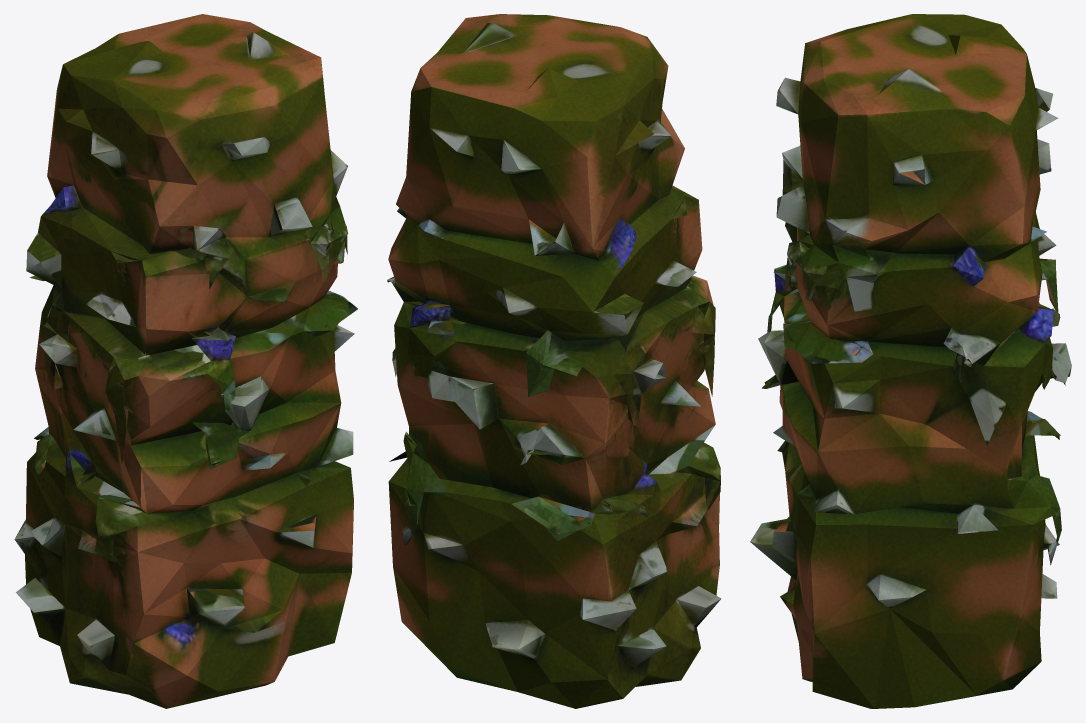
Rendered from jungle_wall.glb.
3 views of the same model, side by side, from view 1: azimuth 30°, elevation 25°; view 2: azimuth 150°, elevation 25°; view 3: azimuth 270°, elevation 25° (orthographic). The views are drawn at different scales.
Parts seen in each view (by area): view 1: tmpb17i07nd.ply; view 2: tmpb17i07nd.ply; view 3: tmpb17i07nd.ply.
Boxes of the visible parts, x1,y1,x2,y2 form: tmpb17i07nd.ply: [14, 14, 357, 708]; tmpb17i07nd.ply: [387, 14, 721, 708]; tmpb17i07nd.ply: [750, 14, 1071, 708].
Size of the model in its own units: 0.9348 by 2.01 by 0.9241.
Materials: 1 (1 with a texture image).
